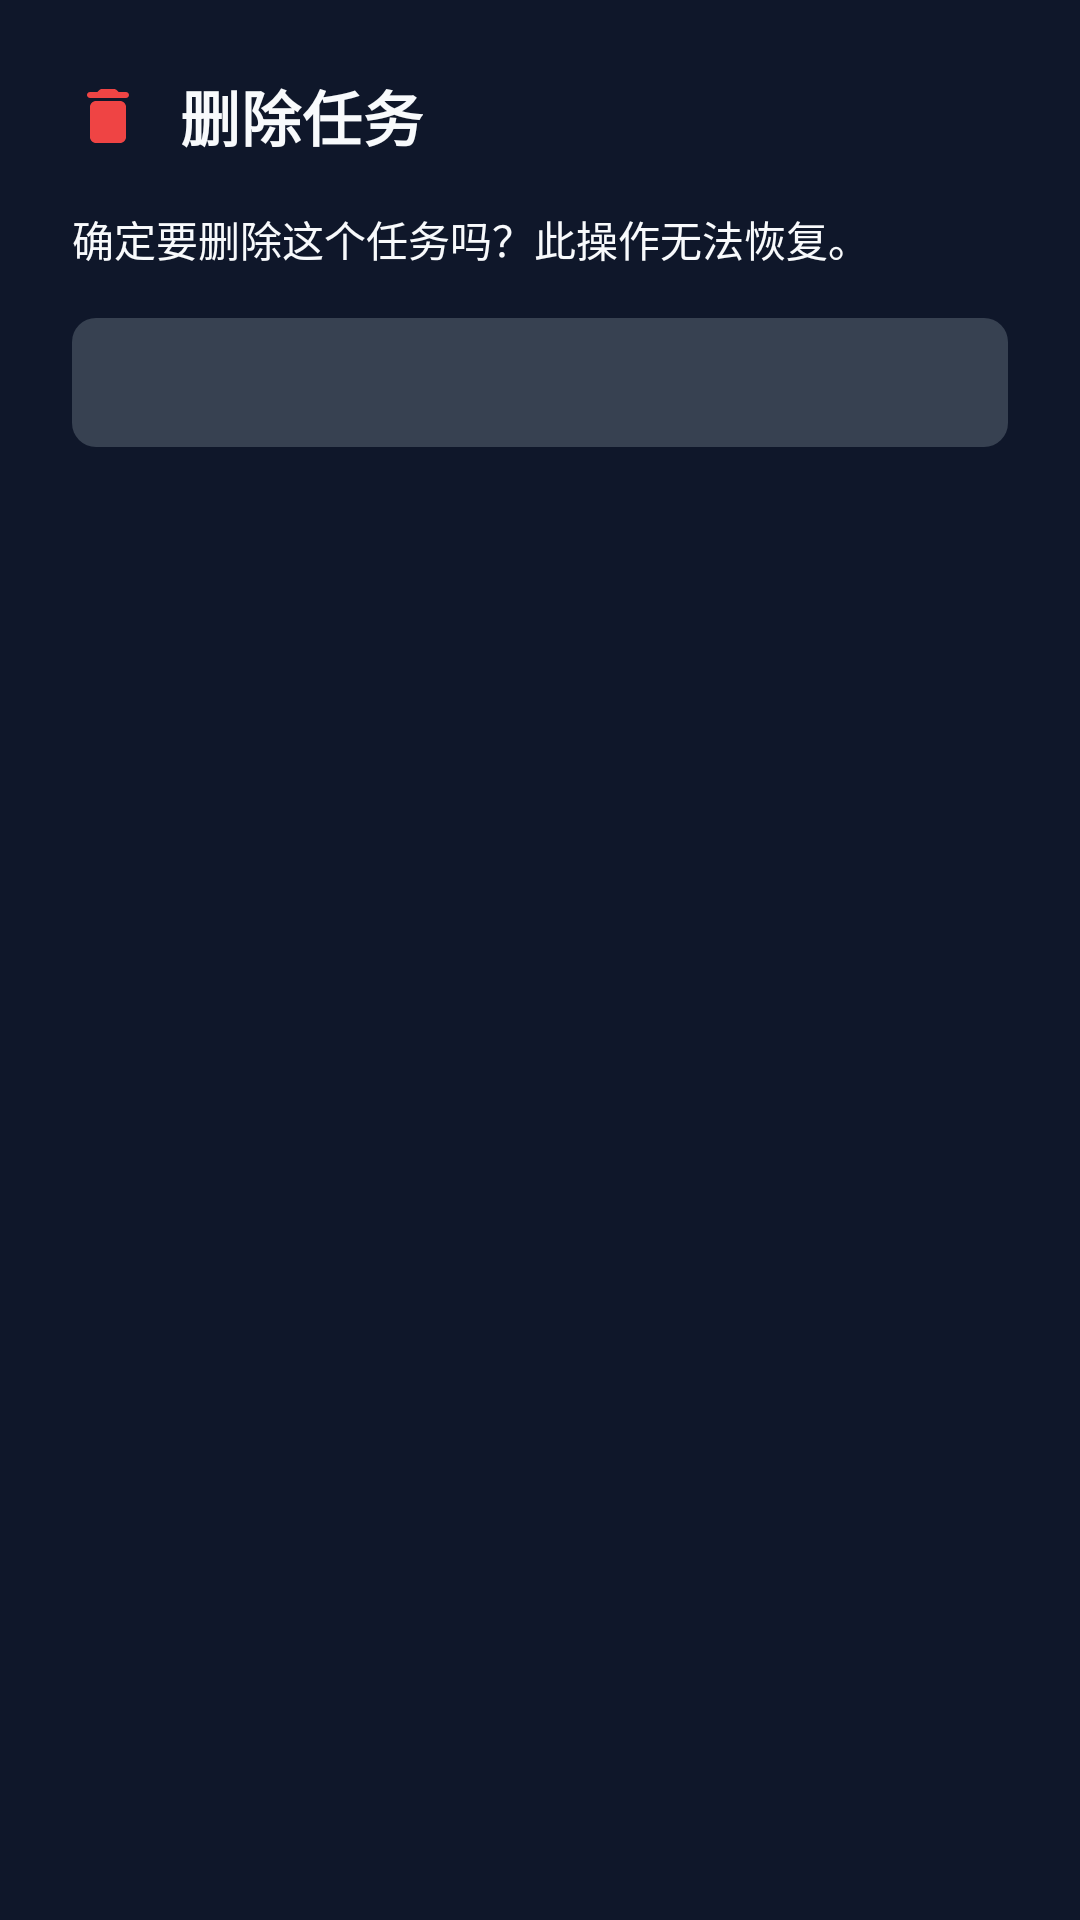

Icons on this 1080px x 1920px Android screen, each with its box as (x1, y1, x2, y2):
delete beautified: (87, 89, 129, 143)
